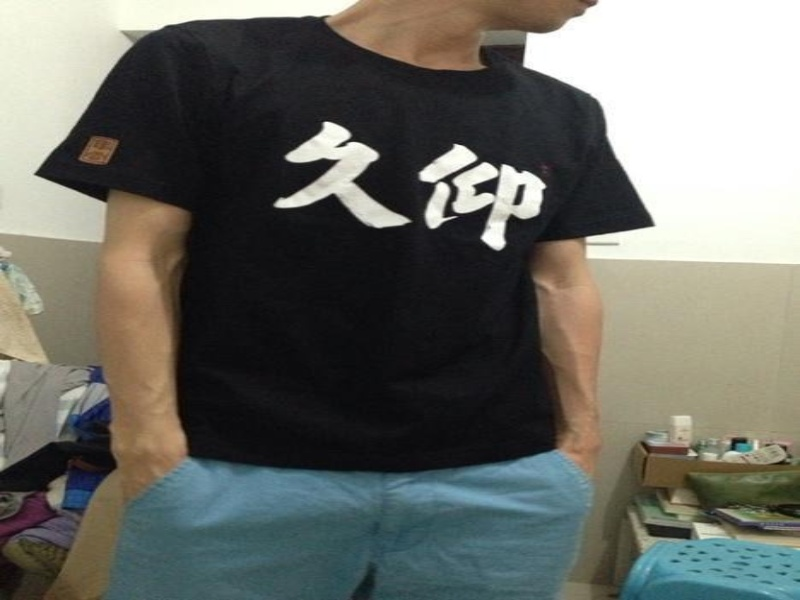short_sleeved_shirt: (29, 12, 658, 475)
shorts: (99, 431, 597, 599)
